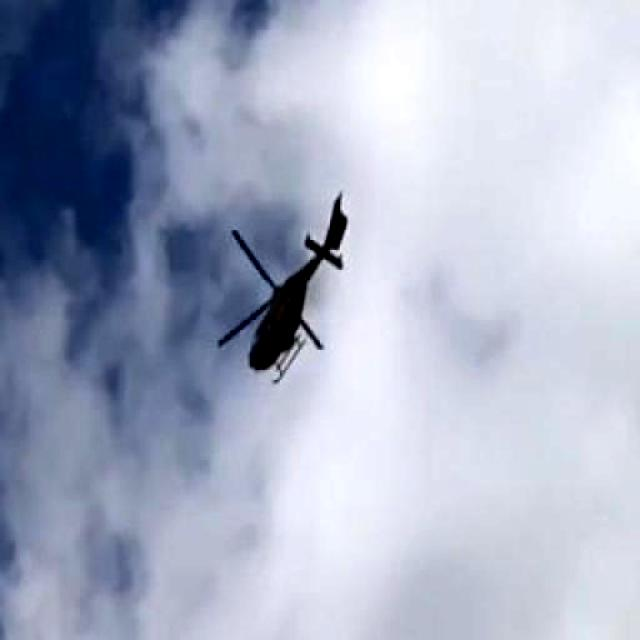drone: (182, 181, 379, 399)
